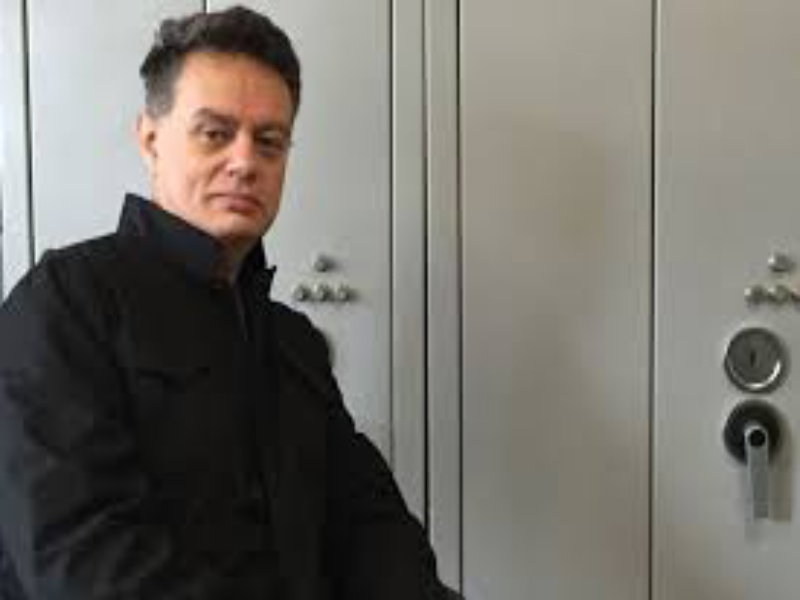TsisyArotava: (125, 23, 316, 255)
